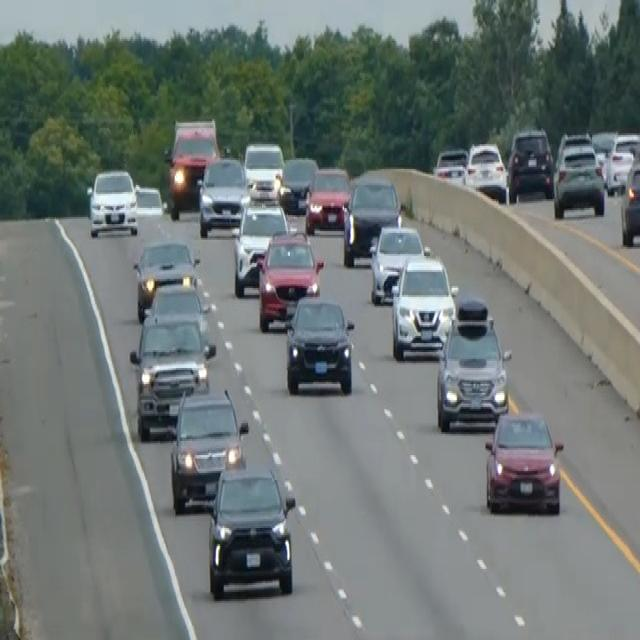car: (206, 464, 296, 599), (129, 309, 216, 439), (435, 295, 512, 432), (169, 386, 248, 512), (484, 407, 564, 516), (390, 252, 458, 361), (284, 292, 355, 396), (255, 228, 324, 330), (231, 196, 289, 295), (342, 172, 401, 266), (133, 236, 200, 318), (368, 222, 427, 304), (552, 133, 605, 219), (144, 277, 210, 343), (197, 153, 247, 236), (85, 166, 138, 237), (507, 126, 553, 201), (304, 163, 351, 234), (464, 140, 508, 202), (243, 139, 284, 199), (278, 153, 318, 213), (604, 130, 639, 194), (619, 153, 639, 245), (433, 146, 468, 183), (590, 128, 615, 176), (134, 183, 164, 219)
jeep: (163, 115, 221, 217)
